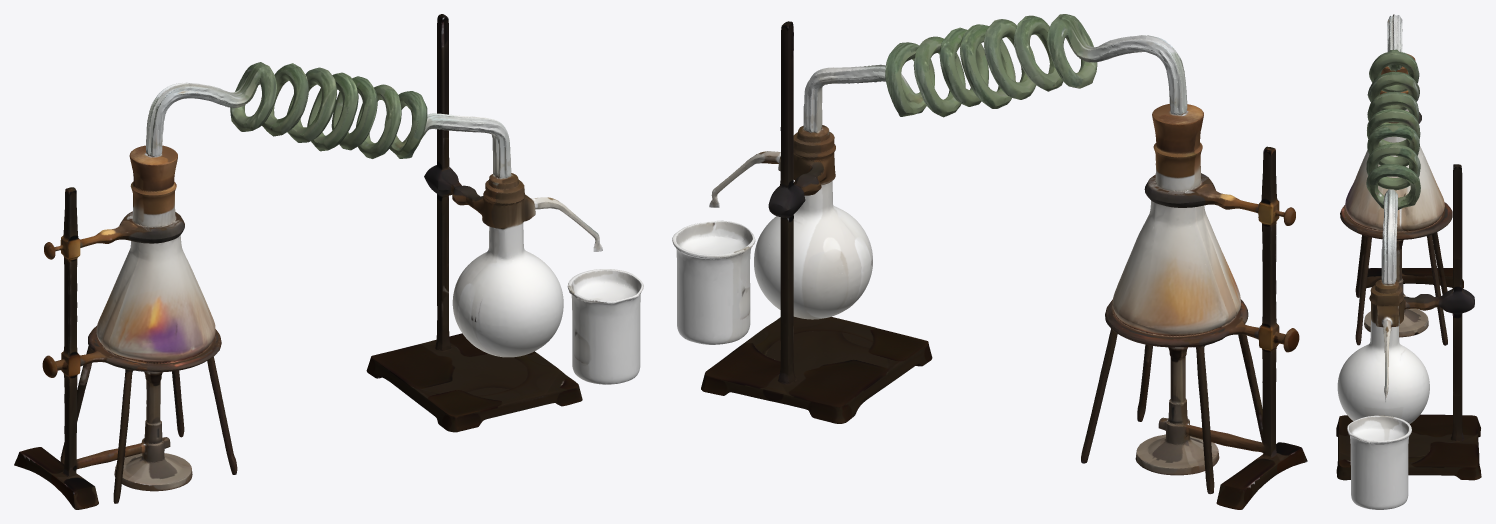
File: base_basic_pbr.glb
The picture shows the model from 3 angles, left to right: view 1: azimuth 30°, elevation 25°; view 2: azimuth 150°, elevation 25°; view 3: azimuth 270°, elevation 25°; orthographic projection. The views are drawn at different scales.
Visible parts, largest first — view 1: model; view 2: model; view 3: model.
Part boxes in pixels (<box>): model: <box>14,14,643,509</box>; model: <box>672,14,1307,509</box>; model: <box>1336,14,1481,509</box>.
Size of the model in its own units: 1.9 by 1.2 by 0.4984.
Materials: 1 (1 with a texture image).
